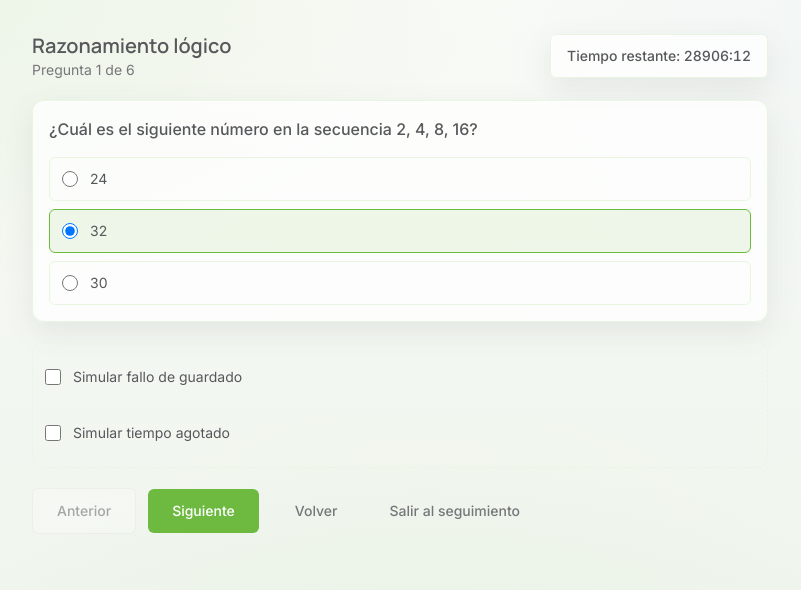
Scenario: PruebasCandidateScreen UI › simulates save failure without writing the session
The width and height of the screenshot is (801, 590).
Click the checkbox with test id "candidate-simulate-save-failure": coordinates (53, 377) [45,369,61,385]
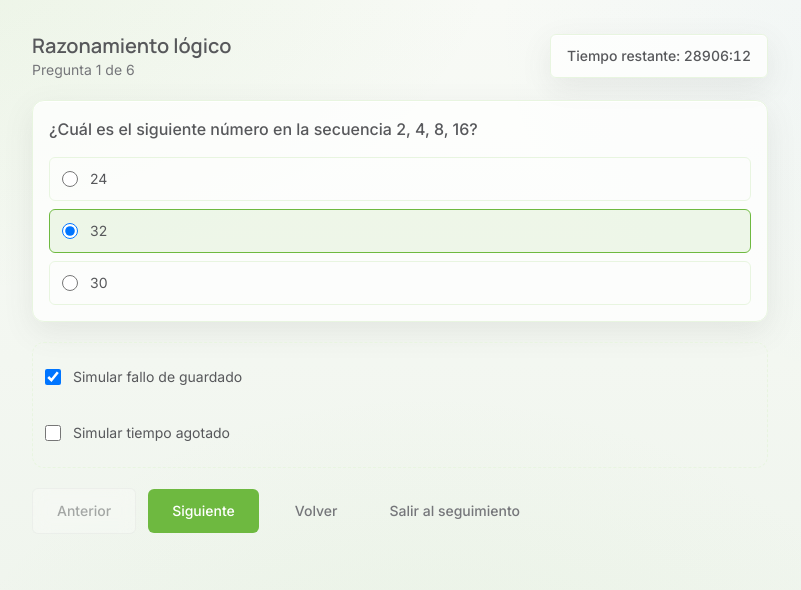
Click the button with test id "candidate-next": coordinates (203, 511) [148,489,259,533]
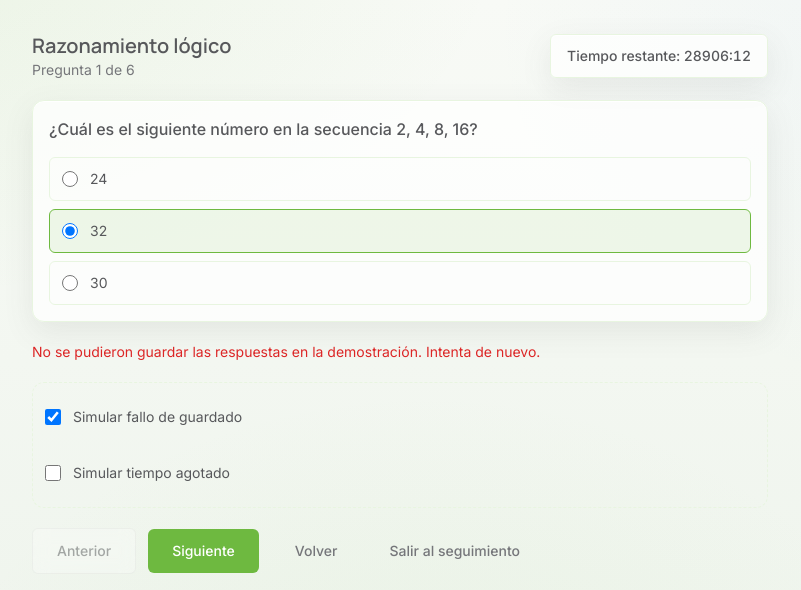
Expected: the message "No se pudieron guardar las respuestas en la demostración. Intenta de nuevo." is shown, [32,343,540,360]
